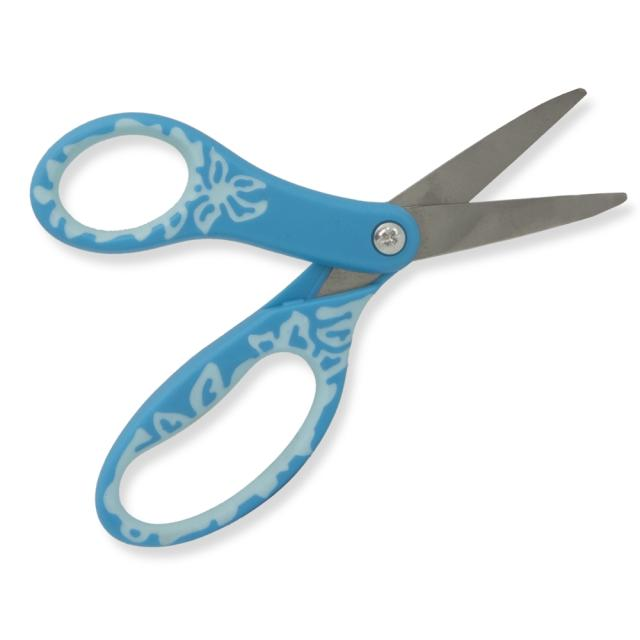scissor: (16, 71, 626, 550)
